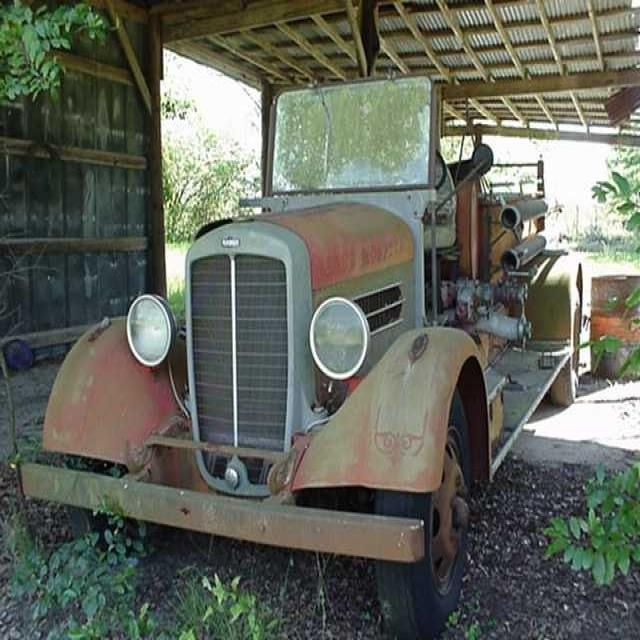ambulance: (22, 84, 591, 640)
